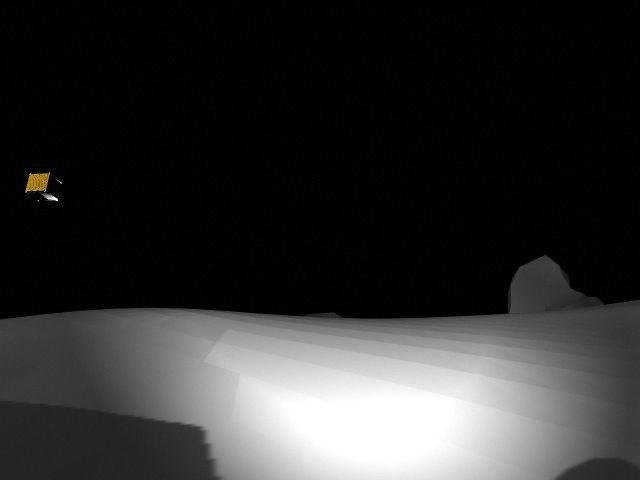cubesat: (20, 167, 72, 211)
